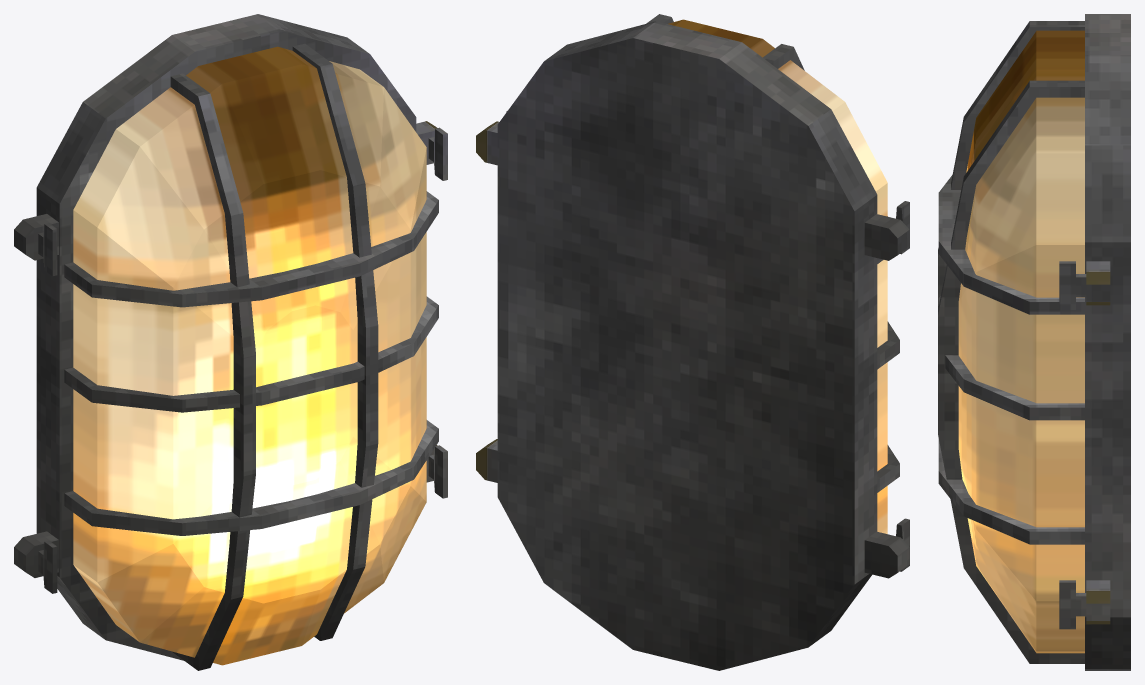
Rendered from low_poly_psx_wall_lamp.glb.
3 renders of one model, left to right at view 1: azimuth 30°, elevation 25°; view 2: azimuth 150°, elevation 25°; view 3: azimuth 270°, elevation 25°, orthographic.
Parts seen in each view (by area): view 1: Cube; view 2: Cube; view 3: Cube.
Boxes of the visible parts, <box> form: Cube: <box>14,14,447,670</box>; Cube: <box>476,14,909,670</box>; Cube: <box>938,14,1130,670</box>.
Size of the model in its own units: 0.2085 by 0.2893 by 0.0823.
1 material, 1 textured.
